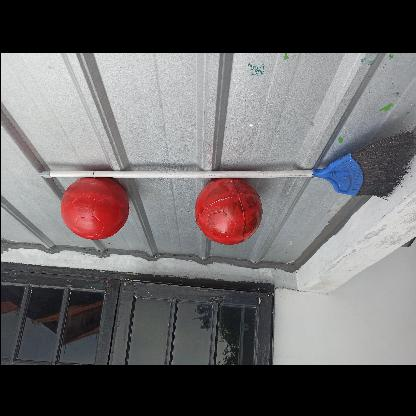red_ball: (193, 181, 259, 247), (61, 176, 126, 242)
